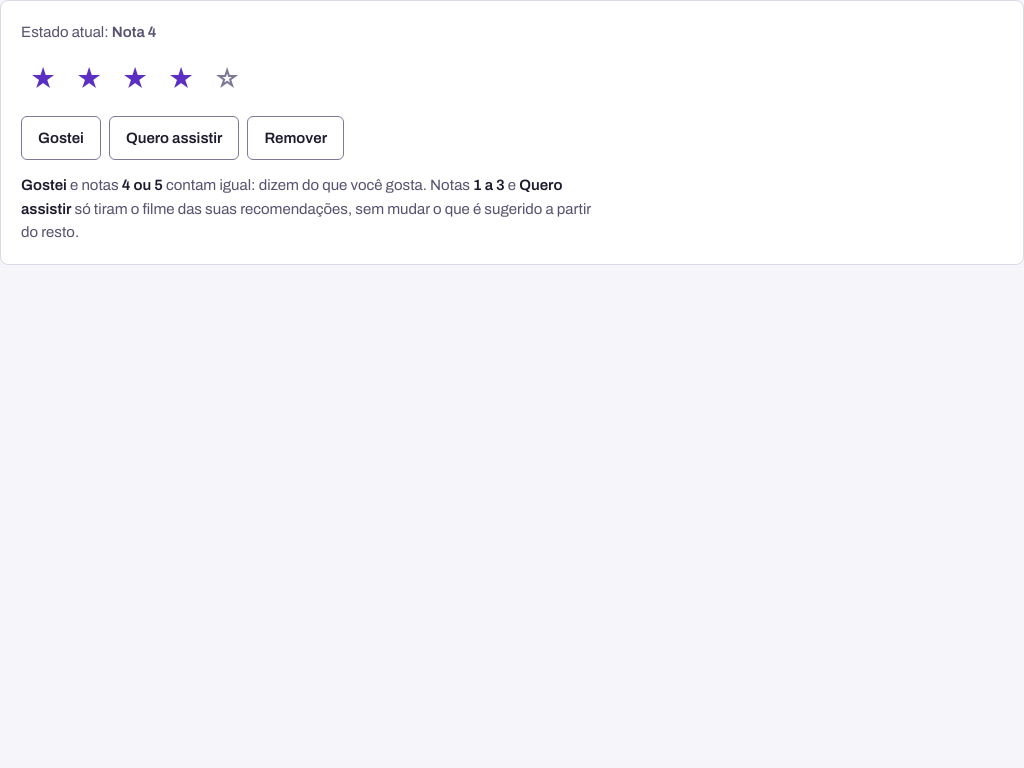
Test: ControleInteracao › clicar na estrela atual remove a nota (DELETE sem corpo e sem cabeçalho)
The image size is (1024, 768).
Click the radio button named "4 de 5 estrelas". click: coordinates (181, 80)
box: x1=159 y1=58 x2=203 y2=102
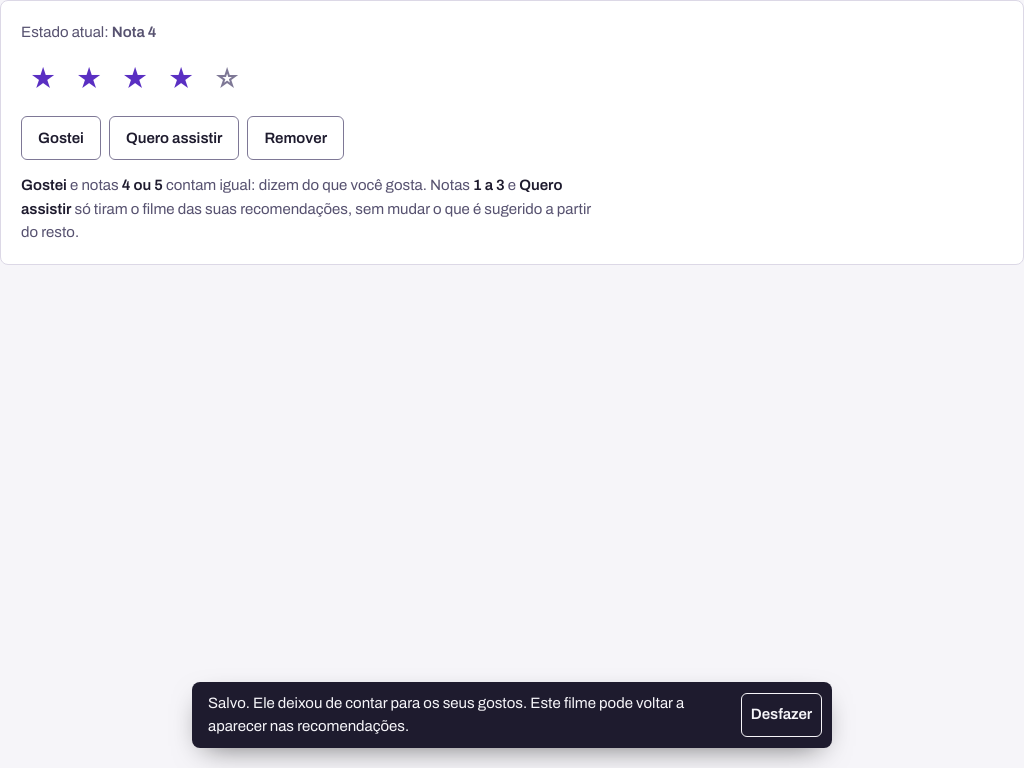
Expected: the text "Ele deixou de contar para os seus gostos. Este filme pode voltar a aparecer nas recomendações." is shown, x1=208 y1=694 x2=684 y2=734
